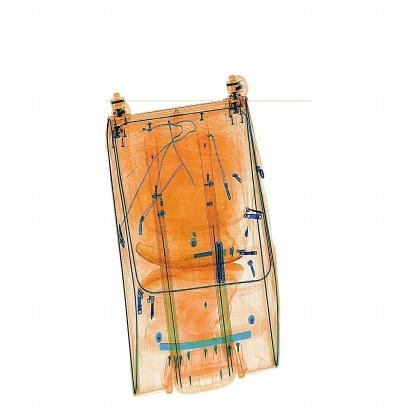scissors: (209, 229, 236, 289)
